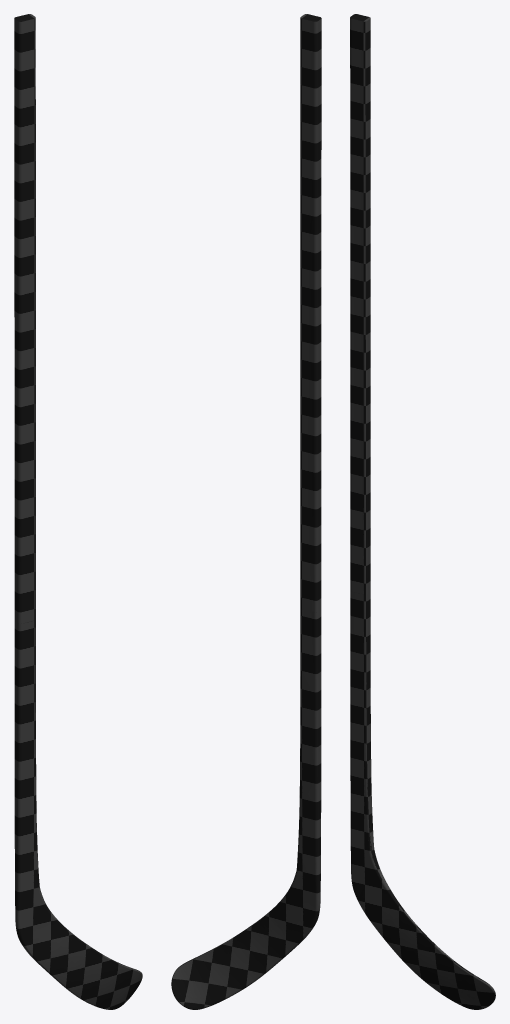
The model's file is P90TM-LIE6-ST.glb.
3 renders of one model, left to right at view 1: azimuth 30°, elevation 25°; view 2: azimuth 150°, elevation 25°; view 3: azimuth 330°, elevation 25°, orthographic. The views are drawn at different scales.
Parts seen in each view (by area): view 1: geometry_0; view 2: geometry_0; view 3: geometry_0.
Part boxes in pixels (left/top/right/bottom): geometry_0: left=14, top=14, right=142, bottom=1009; geometry_0: left=171, top=14, right=321, bottom=1009; geometry_0: left=350, top=14, right=495, bottom=1009.
Size of the model in its own units: 232 by 1650 by 57.18.
1 material, 1 textured.
